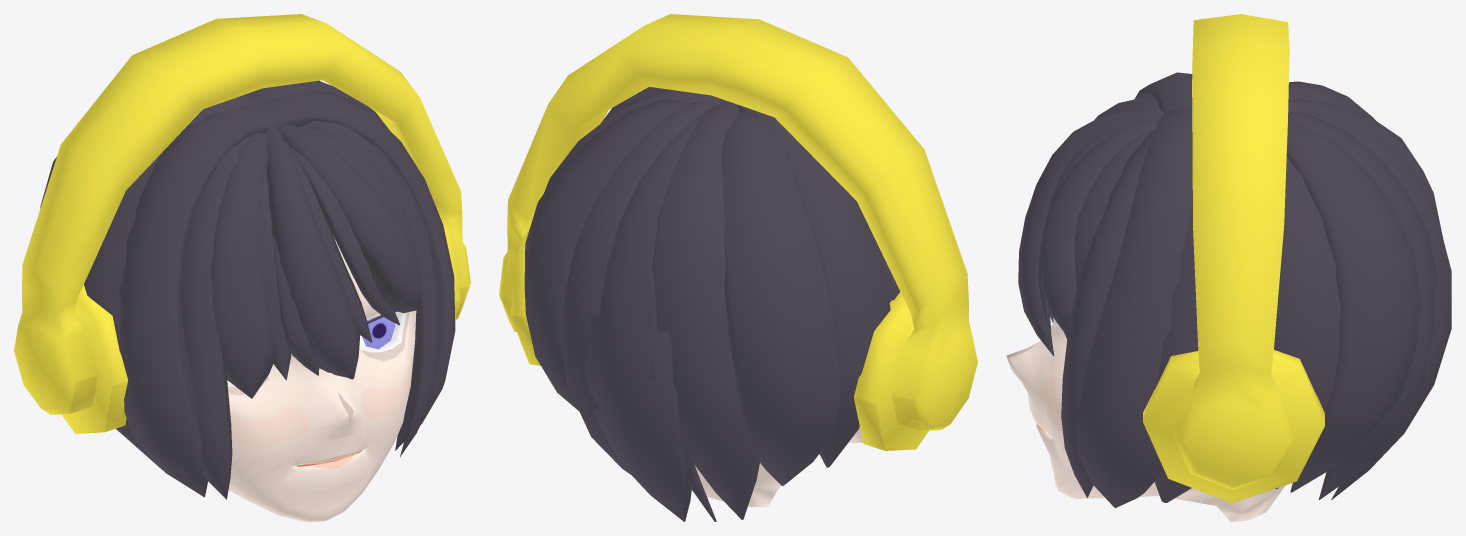
File: portfolio_model_head.glb
The picture shows the model from 3 angles, left to right: view 1: azimuth 30°, elevation 25°; view 2: azimuth 150°, elevation 25°; view 3: azimuth 270°, elevation 25°; orthographic projection. The views are drawn at different scales.
Visible parts, largest first — view 1: Hair.003, Headphone.001, Hair.001, head.001, eyes.001; view 2: Headphone.001, Hair.003, Hair.004, head.001; view 3: Hair.003, Headphone.001, Hair.004, Hair.001, head.001.
Boxes of the visible parts, x1=… form: Hair.003: x1=40, y1=80, x2=455, y2=499; Headphone.001: x1=14, y1=14, x2=470, y2=433; Hair.001: x1=210, y1=124, x2=421, y2=398; head.001: x1=227, y1=236, x2=416, y2=521; eyes.001: x1=362, y1=316, x2=395, y2=349; Headphone.001: x1=499, y1=14, x2=977, y2=450; Hair.003: x1=524, y1=87, x2=900, y2=485; Hair.004: x1=561, y1=100, x2=759, y2=521; head.001: x1=692, y1=427, x2=862, y2=506; Hair.003: x1=1061, y1=72, x2=1421, y2=508; Headphone.001: x1=1143, y1=14, x2=1324, y2=502; Hair.004: x1=1288, y1=99, x2=1451, y2=499; Hair.001: x1=1018, y1=98, x2=1163, y2=356; head.001: x1=1006, y1=320, x2=1285, y2=521.
Size of the model in its own units: 2.59 by 2.63 by 2.28.
1 material, 1 textured.
